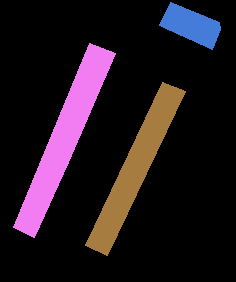parkingspot: (13, 43, 115, 237), (85, 82, 185, 255), (159, 2, 220, 49)
